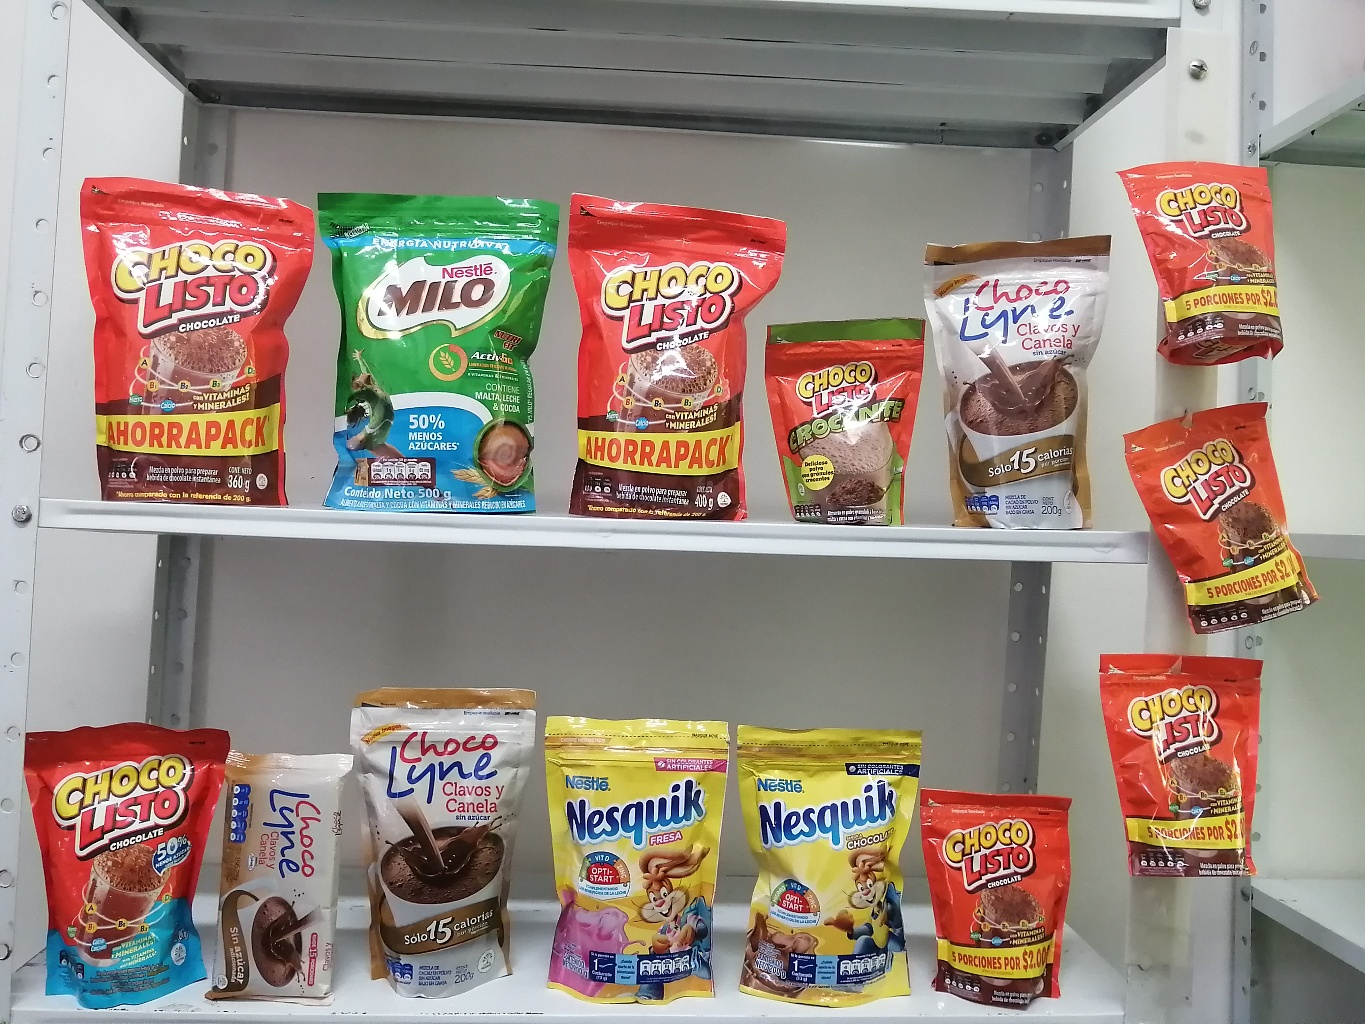COL0170102DYP10000: (744, 299, 923, 528)
COL0170103DYP10000: (1119, 142, 1303, 376)
COL0170103DYP36000: (63, 154, 305, 512)
COL0170103DYP40000: (556, 170, 785, 521)
COL0170104DYP20000: (19, 717, 227, 1011)
COL0170205DYP50000: (332, 163, 566, 504)
COL0170303DYP20000: (721, 709, 921, 1007)
COL0170305DYP20000: (540, 707, 742, 1001)
